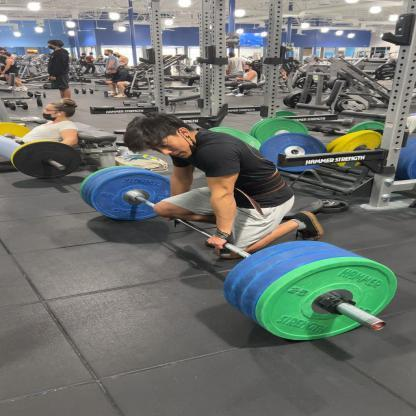barbell: (79, 165, 399, 343)
